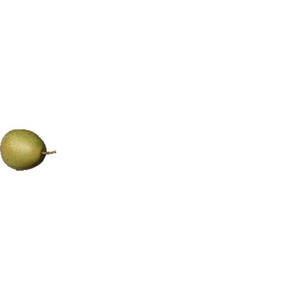pera: (1, 128, 57, 171)
